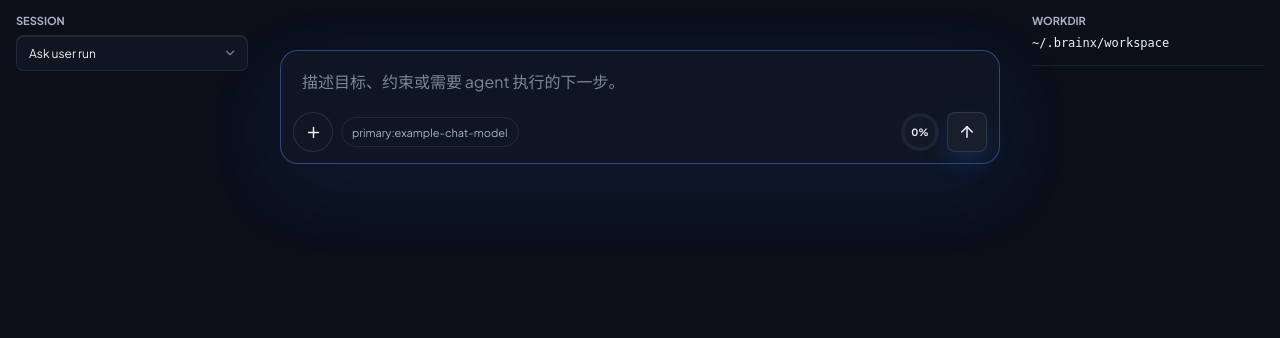
ask_user chat interaction › shows send failures as a toast instead of an inline timeline alert
The width and height of the screenshot is (1280, 338).
Type "trigger failure" into the text box at (640, 83), box [291, 61, 989, 104]
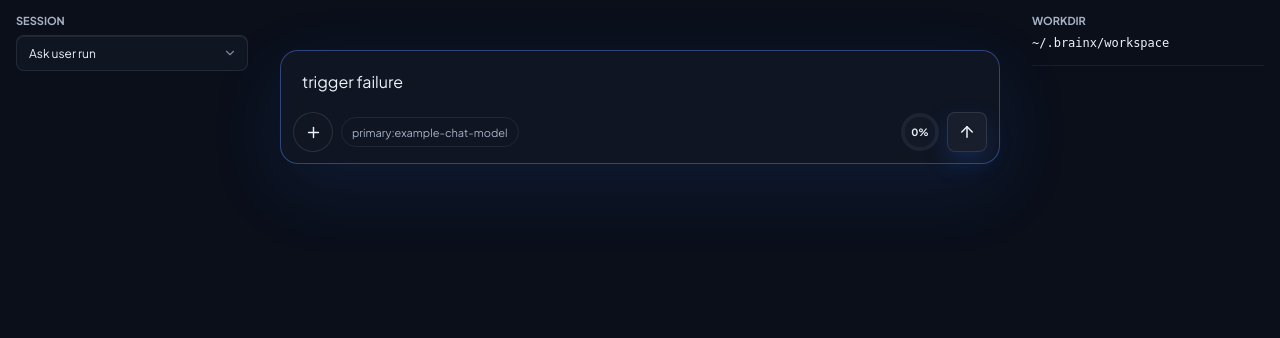
Click the button named "发送消息" at (967, 132), box [947, 112, 987, 152]
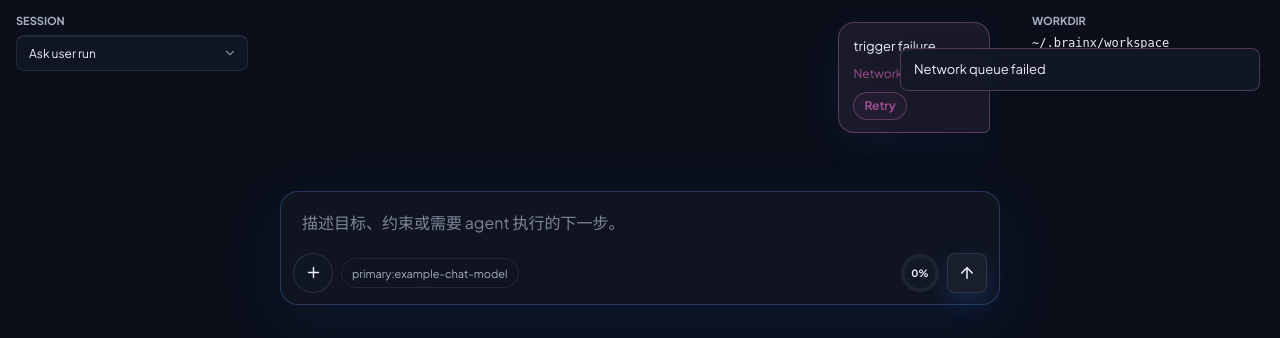
Check: the message reads "Network queue failed", box [914, 61, 1046, 77]
